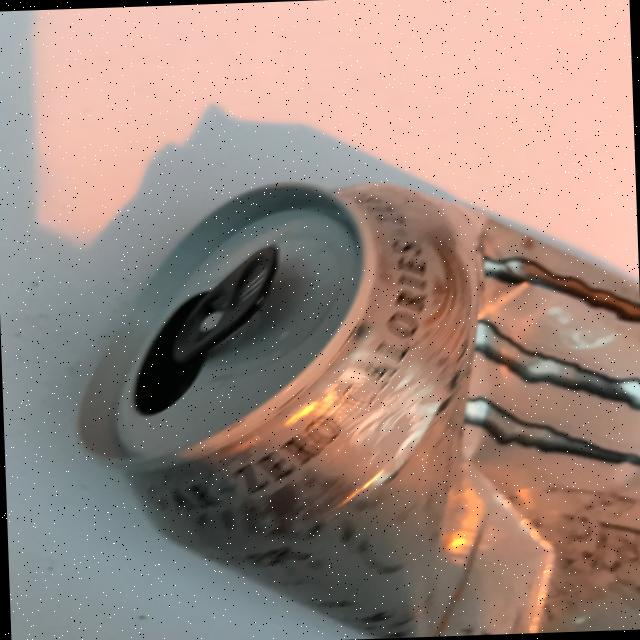metal: (67, 166, 640, 640)
